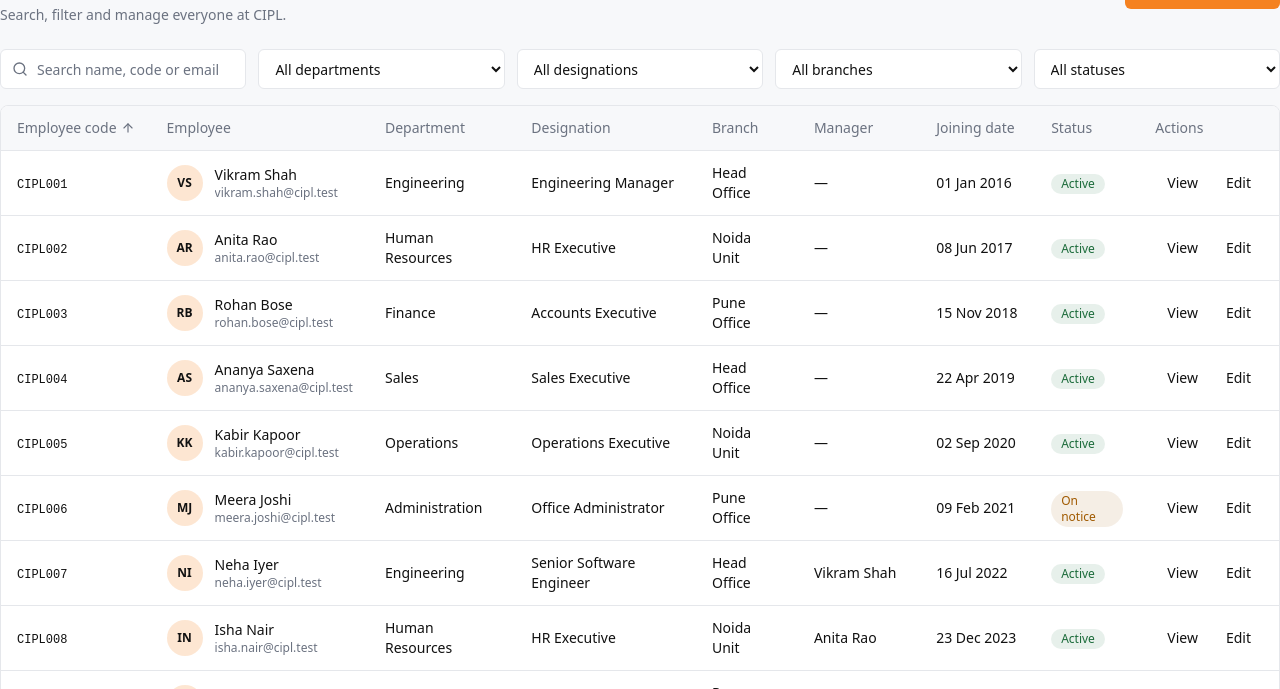
Scenario: EmployeesPage › filters by department and can clear the filter
Select "Finance" in the dropdown named "Department". click: [382, 69]
box: [258,49,505,89]
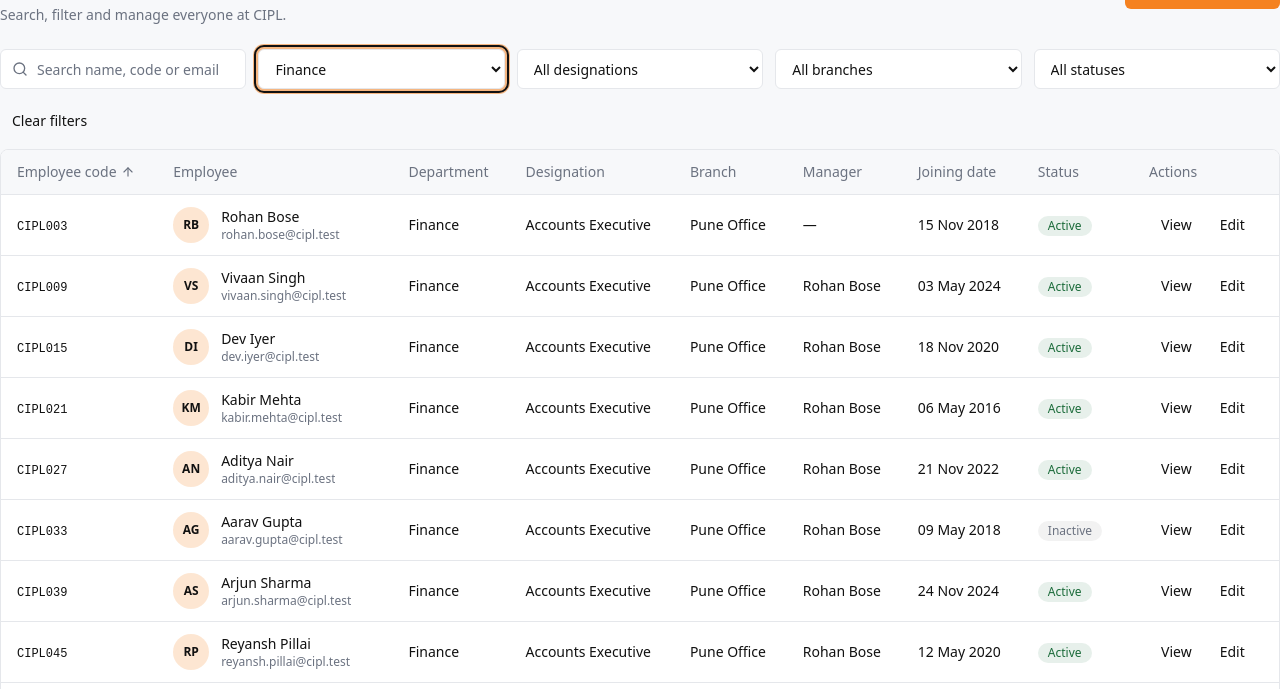
Click the button "Clear filters". click: [50, 121]
box: [0,105,99,137]
(page scrolled)
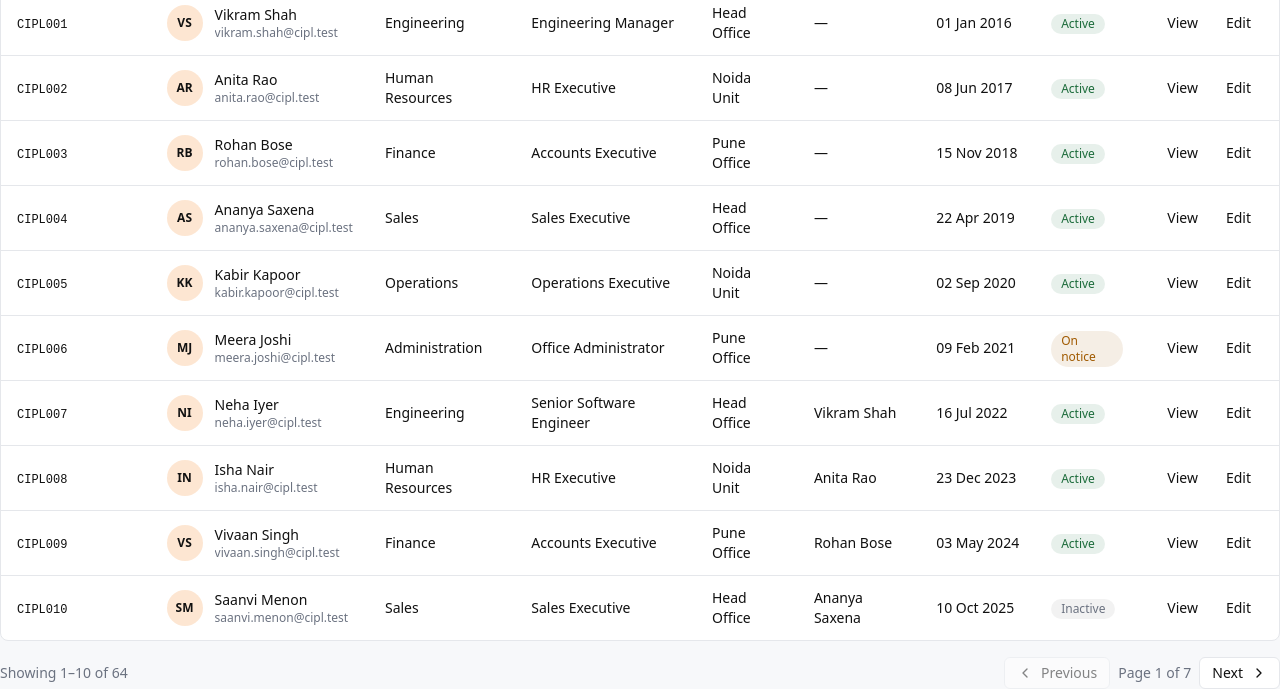
expect the text "Showing 1–10 of 64" is shown: met, box [0,663,128,683]
